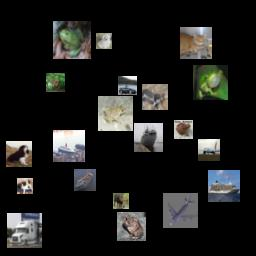airplane: (163, 193, 198, 228), (198, 139, 220, 161)
automobile: (118, 76, 137, 95)
cat: (180, 27, 212, 59), (142, 84, 168, 110), (17, 178, 33, 194)
deer: (46, 73, 65, 92), (113, 193, 129, 209)
dog: (6, 141, 32, 167), (96, 33, 112, 49)
frog: (53, 21, 91, 59), (193, 65, 228, 100), (98, 96, 133, 131), (117, 212, 146, 241), (174, 120, 193, 139)
ship: (53, 130, 85, 162), (208, 170, 240, 202), (134, 123, 163, 152), (74, 169, 96, 191)
truck: (7, 213, 42, 248)
